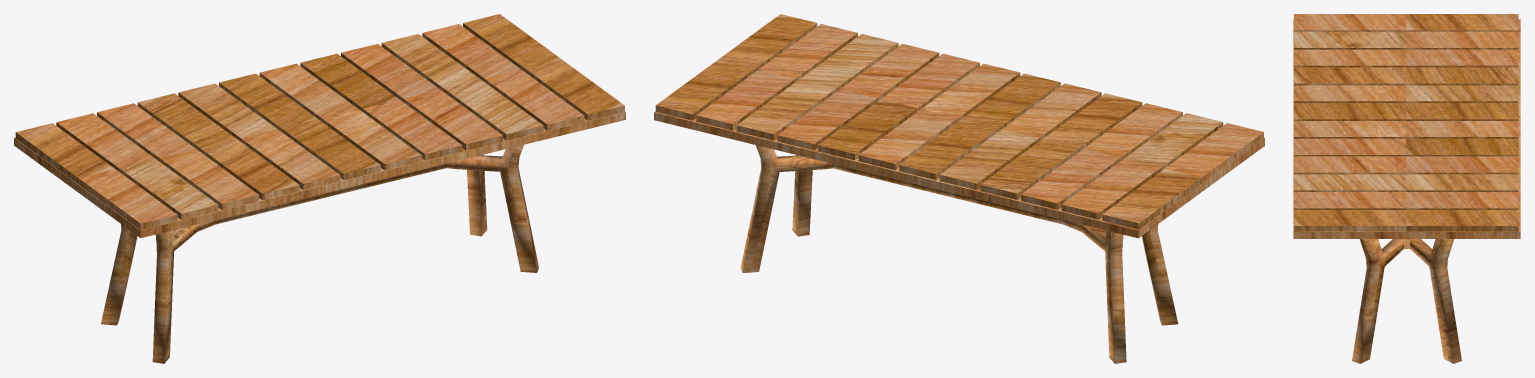
File: СтолМодена.glb
The picture shows the model from 3 angles, left to right: view 1: azimuth 30°, elevation 25°; view 2: azimuth 150°, elevation 25°; view 3: azimuth 270°, elevation 25°; orthographic projection. The views are drawn at different scales.
Visible parts, largest first — view 1: дерево; view 2: дерево; view 3: дерево.
Boxes of the visible parts, box(x1,y1,x2,y2) form: дерево: box(14, 14, 625, 363); дерево: box(654, 14, 1264, 363); дерево: box(1293, 14, 1520, 363).
Bounding box in the file's own units: 4.48 × 1.57 × 2.02.
1 material, 1 textured.
